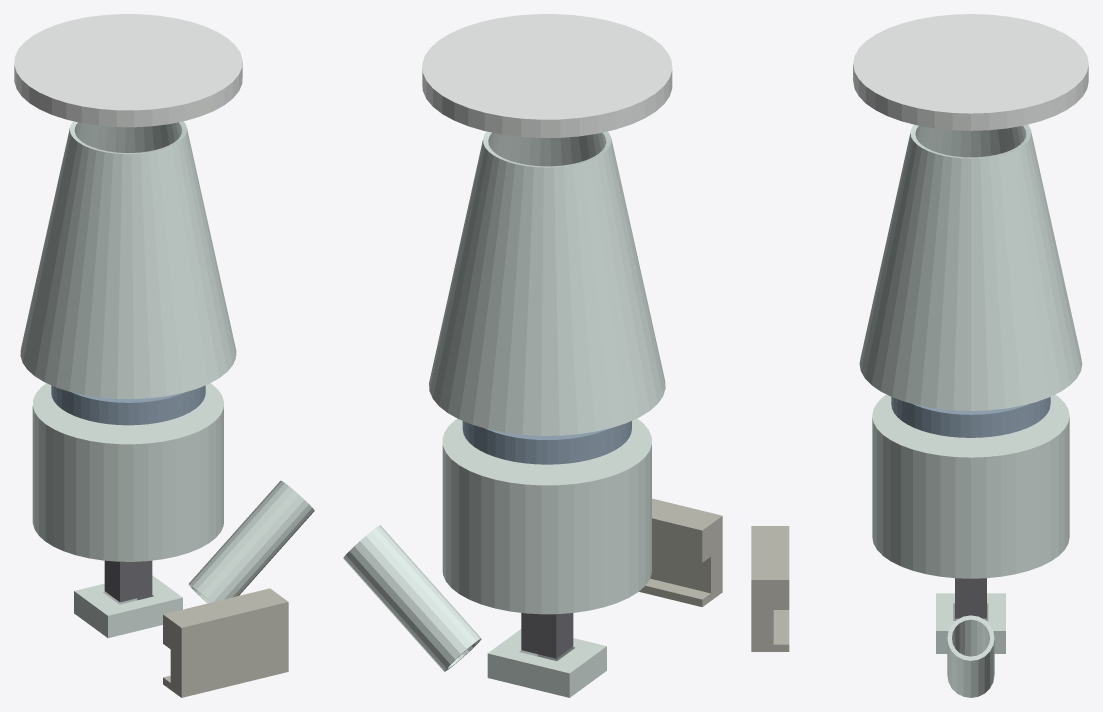
File: iAqua_Feeder.glb
3 views of the same model, side by side, from view 1: azimuth 30°, elevation 25°; view 2: azimuth 150°, elevation 25°; view 3: azimuth 270°, elevation 25° (orthographic). The views are drawn at different scales.
Visible parts, largest first — view 1: Hopper, Housing, Lid, Clamp, Chute, MotorMount, Disc, Motor_N20; view 2: Hopper, Housing, Lid, Chute, Clamp, MotorMount, Disc, Motor_N20; view 3: Hopper, Housing, Lid, Clamp, Disc, Chute, MotorMount, Motor_N20.
Part boxes in pixels (bbox=[...]): Hopper: bbox=[20, 121, 236, 398]; Housing: bbox=[32, 383, 223, 561]; Lid: bbox=[14, 14, 242, 127]; Clamp: bbox=[163, 588, 288, 697]; Chute: bbox=[188, 480, 314, 603]; MotorMount: bbox=[74, 575, 182, 638]; Disc: bbox=[51, 385, 205, 425]; Motor_N20: bbox=[104, 560, 152, 602]; Hopper: bbox=[429, 131, 665, 435]; Housing: bbox=[442, 418, 651, 614]; Lid: bbox=[422, 14, 672, 137]; Chute: bbox=[343, 525, 481, 671]; Clamp: bbox=[639, 498, 722, 607]; MotorMount: bbox=[487, 629, 606, 697]; Disc: bbox=[462, 421, 631, 464]; Motor_N20: bbox=[521, 613, 573, 658]; Hopper: bbox=[859, 124, 1082, 410]; Housing: bbox=[872, 394, 1069, 578]; Lid: bbox=[853, 14, 1088, 130]; Clamp: bbox=[751, 526, 789, 651]; Disc: bbox=[891, 397, 1050, 437]; Chute: bbox=[947, 615, 994, 697]; MotorMount: bbox=[936, 593, 1005, 653]; Motor_N20: bbox=[955, 578, 986, 618].
Size of the model in its own units: 105 by 204 by 106.
